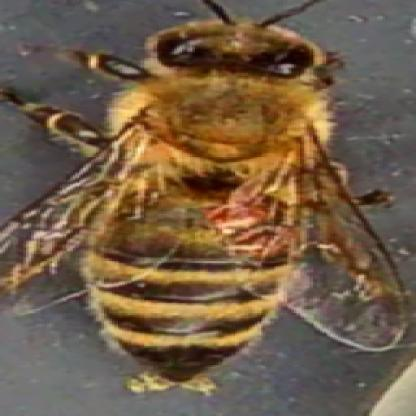bee: (93, 11, 314, 393)
vaoora: (214, 204, 261, 229)
